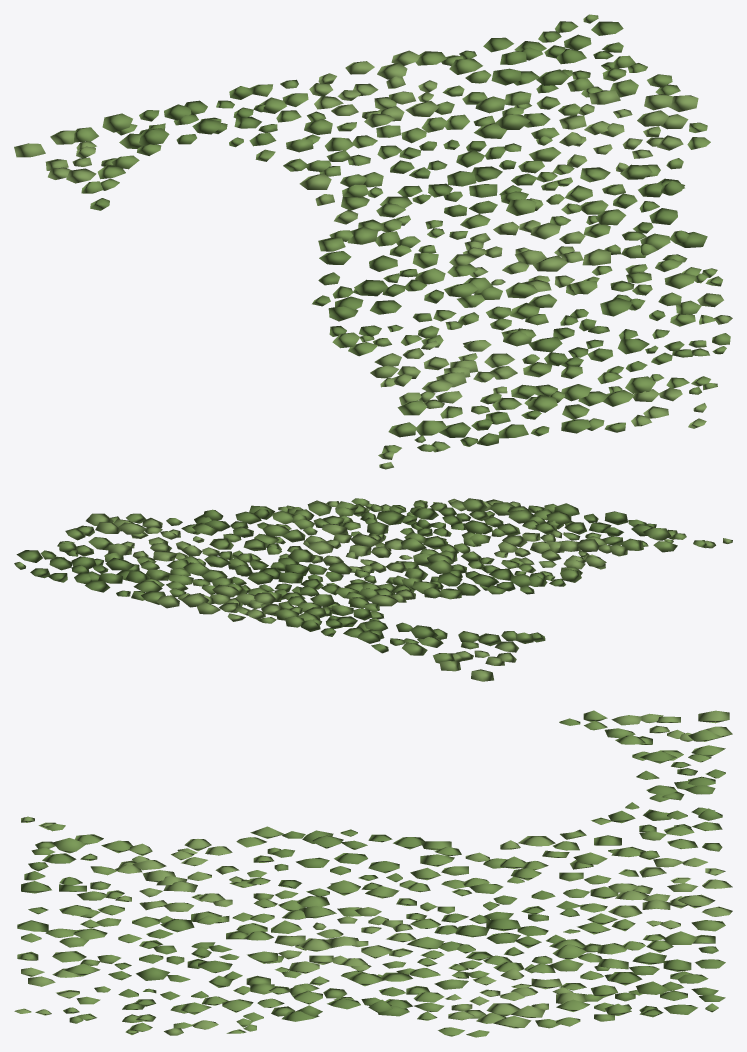
The model's file is canopy-1-4-4.glb.
3 views of the same model, one above another, from view 1: azimuth 30°, elevation 25°; view 2: azimuth 150°, elevation 25°; view 3: azimuth 270°, elevation 25° (orthographic). The views are drawn at different scales.
Size of the model in its own units: 515 by 110 by 518.
1 material, 1 textured.
